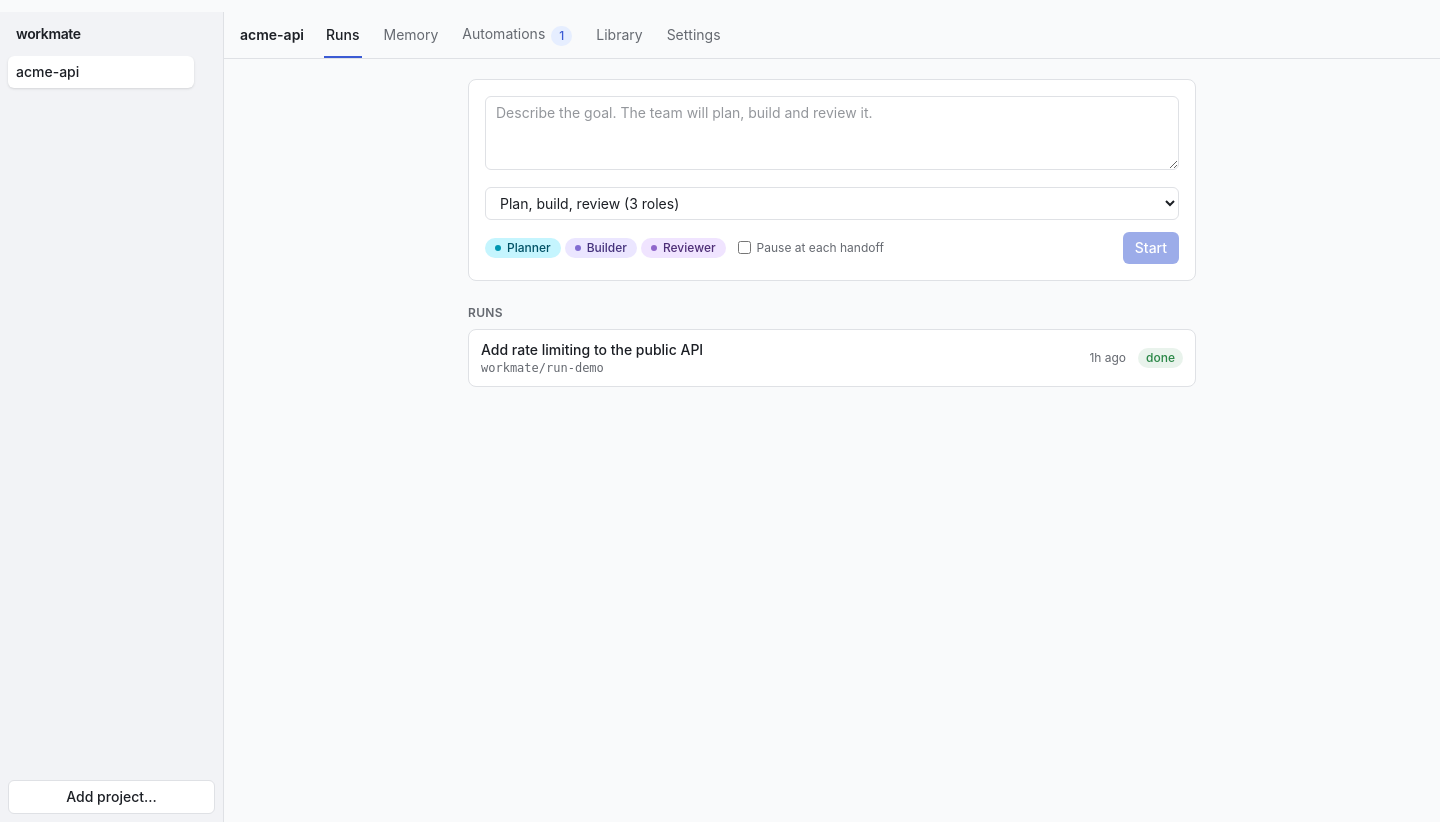
a finished team run › reads as an attributed thread with the handoffs made visible
Click the text "Add rate limiting to the public API".
click(592, 349)  # box [481,341,703,358]
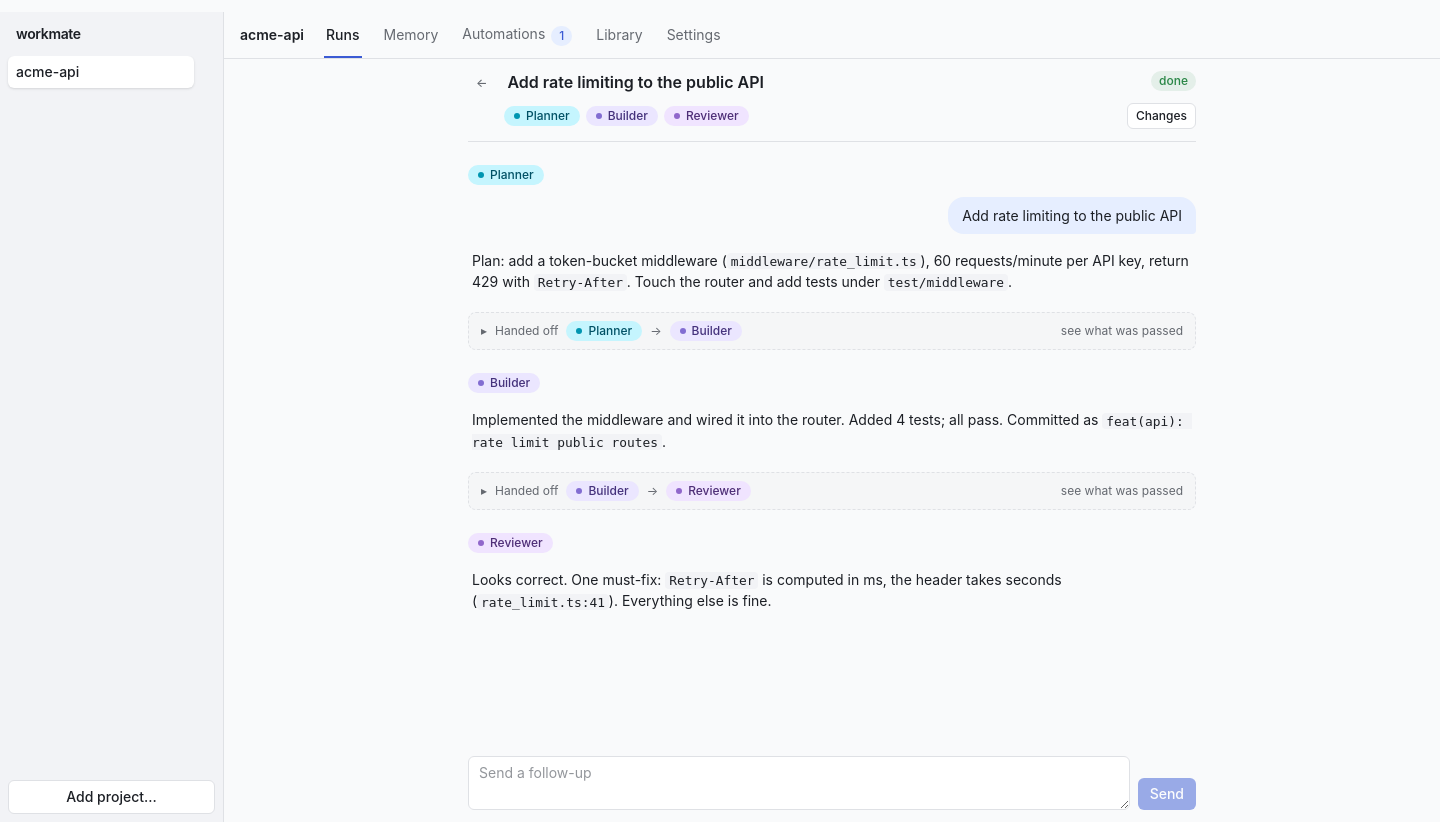
Expected: the text "Planner" is shown, [504,106,580,126]
Expected: the text "Handed off" is shown 2 times, [495,323,558,339]; [495,483,558,499]
Click the 1st text "see what was passed".
click(1122, 331)  # box [1061,323,1183,339]
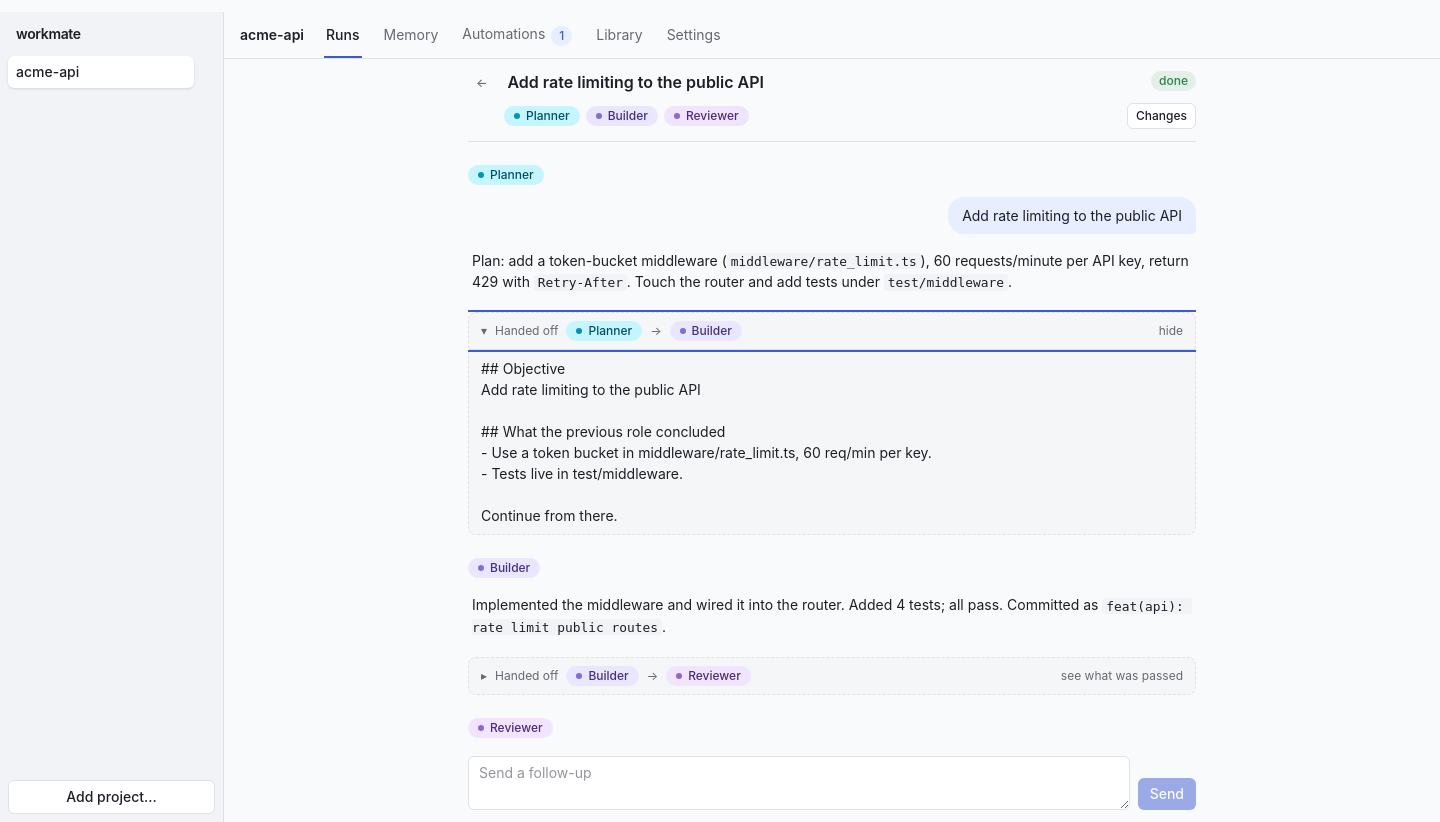
Expected: the text "What the previous role concluded" is shown, [481,360,932,524]
